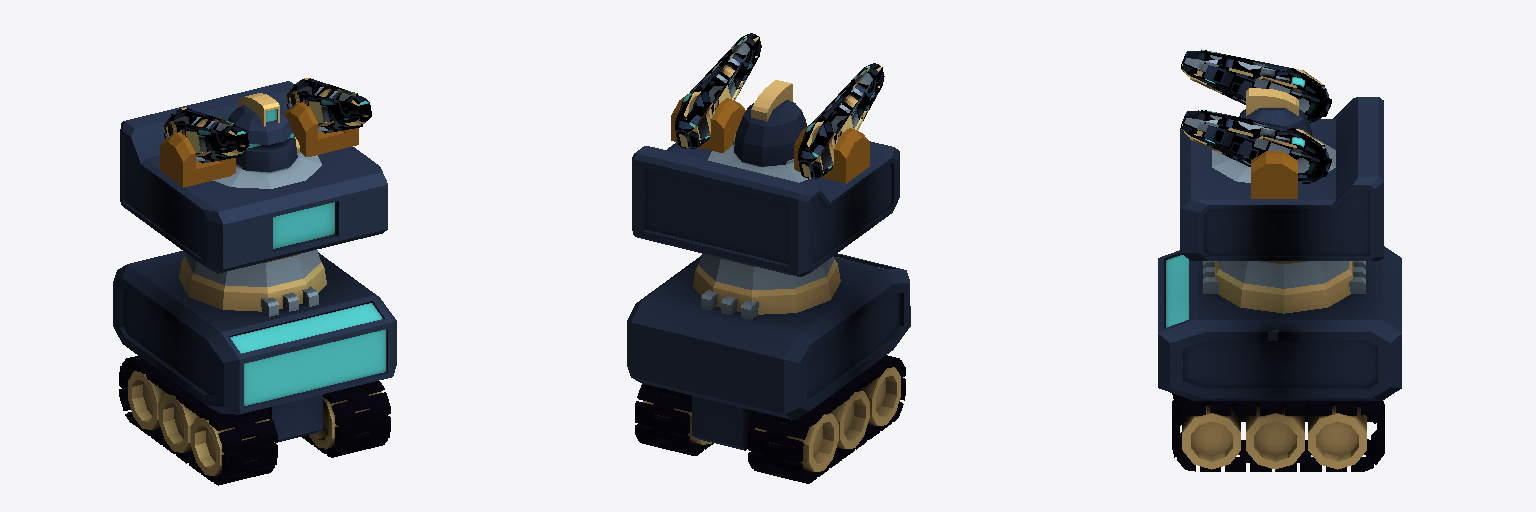
The picture shows the model from 3 angles: view 1: azimuth 30°, elevation 25°; view 2: azimuth 150°, elevation 25°; view 3: azimuth 270°, elevation 25°; orthographic projection.
Parts seen in each view (by area): view 1: Object020, Box031, Object013, Box032; view 2: Object020, Box031, Object013, Box032; view 3: Object020, Object013, Box032.
Boxes of the visible parts, box(x1,y1,x2,y2) form: Object020: box(113, 78, 396, 442); Box031: box(119, 356, 277, 485); Object013: box(128, 371, 382, 475); Box032: box(302, 381, 390, 457); Object020: box(627, 33, 910, 450); Box031: box(748, 355, 905, 483); Object013: box(643, 367, 900, 471); Box032: box(635, 384, 713, 455); Object020: box(1158, 49, 1401, 421); Object013: box(1182, 400, 1366, 469); Box032: box(1172, 395, 1384, 471).
Size of the model in its own units: 179 by 340 by 214.
4 materials, 2 textured.